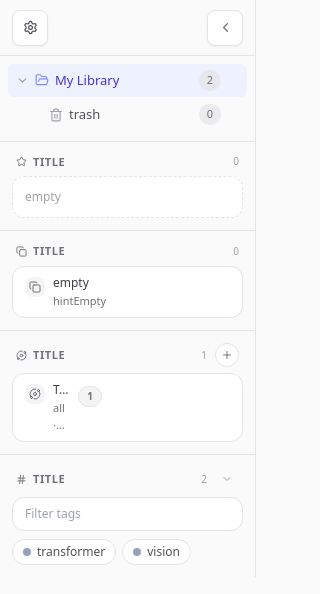
FolderSidebar › filters visible tags from the search field
In the field with placeholder "Filter tags": (128, 514) [25,498,230,530], type "trans"
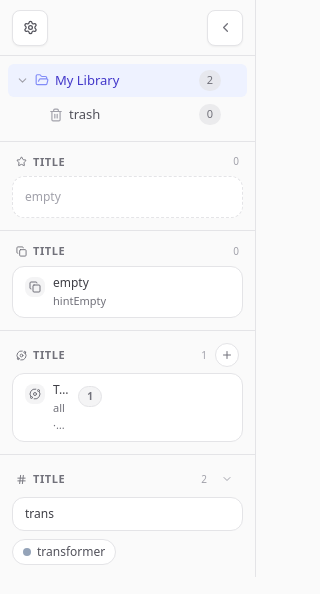
Expected: the text "transformer" is shown, [37,544,105,560]
Expected: the button "vision" is gone
